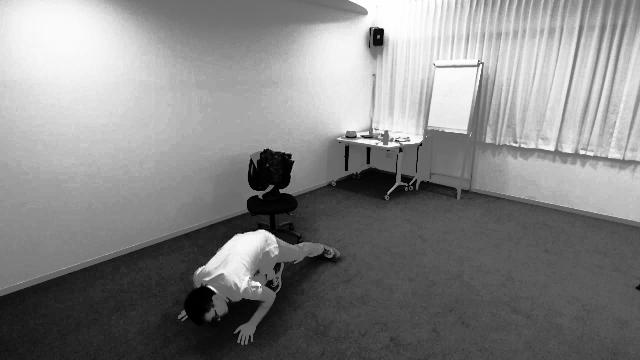jatuh: (175, 222, 342, 348)
